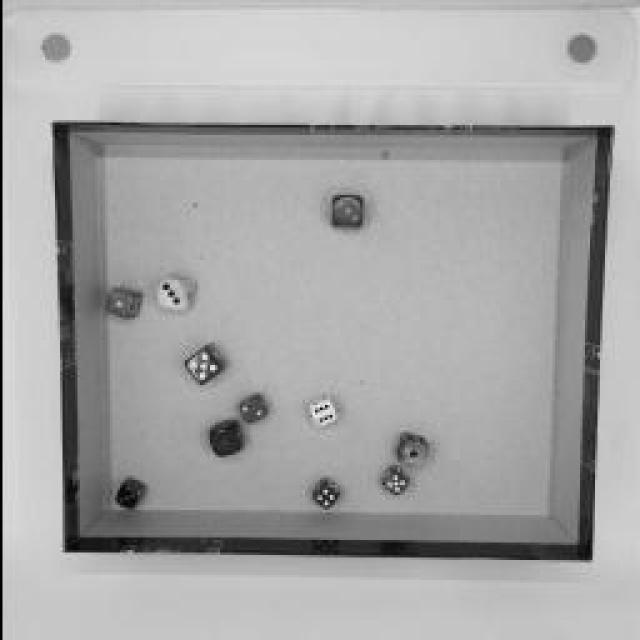dice_1: (204, 418, 244, 460), (392, 430, 430, 470), (101, 284, 144, 318)
dice_2: (235, 390, 270, 425)
dice_3: (152, 275, 198, 313), (330, 192, 365, 230), (112, 476, 148, 512)
dice_4: (308, 475, 342, 510)
dice_5: (178, 342, 228, 388), (378, 466, 410, 496)
dice_6: (305, 391, 340, 429)
